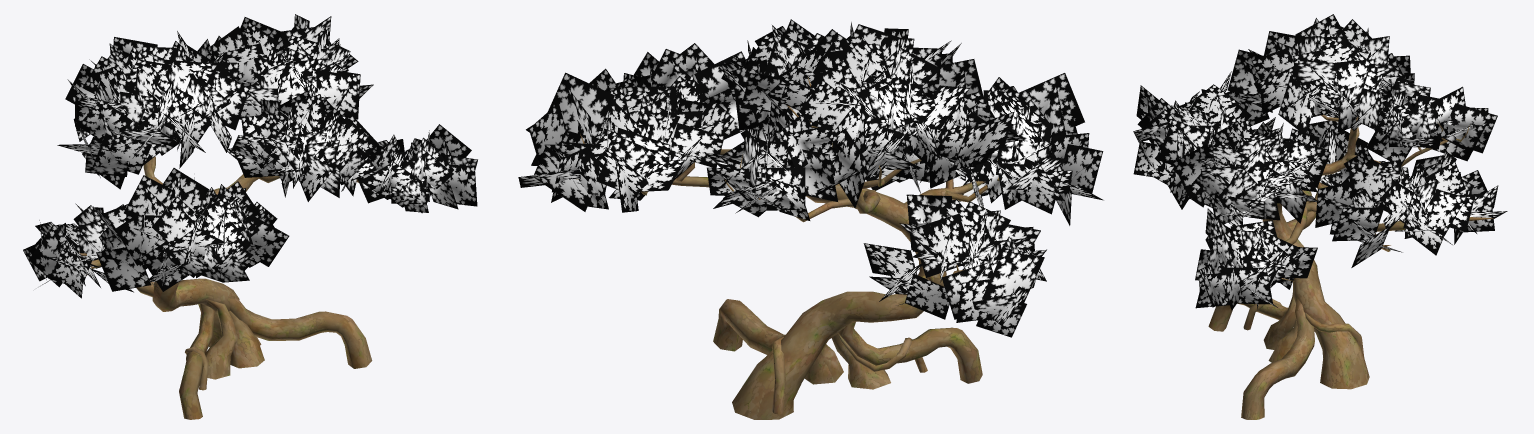
Rendered from P_RedMaple04_Gold.obj.
3 renders of one model, left to right at view 1: azimuth 30°, elevation 25°; view 2: azimuth 150°, elevation 25°; view 3: azimuth 270°, elevation 25°, orthographic. The views are drawn at different scales.
Size of the model in its own units: 36.59 by 28.64 by 31.45.
